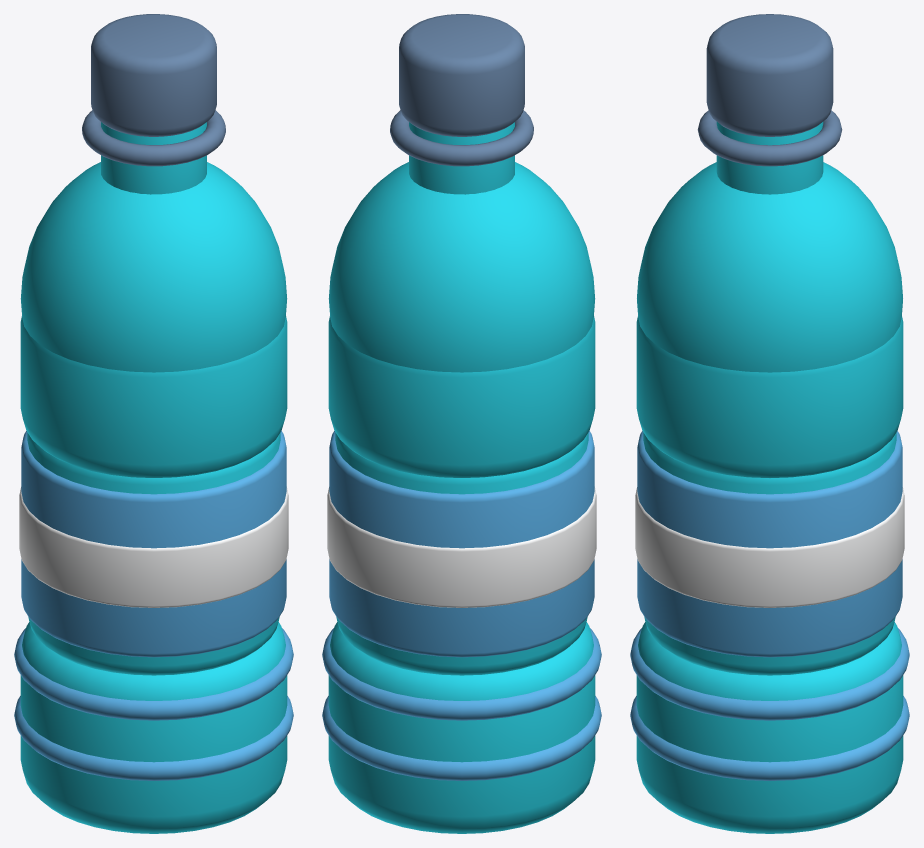
The model's file is SM_WaterBottle.fbx.
The picture shows the model from 3 angles, left to right: view 1: azimuth 30°, elevation 25°; view 2: azimuth 150°, elevation 25°; view 3: azimuth 270°, elevation 25°; orthographic projection.
Visible parts, largest first — view 1: SM_WaterBottle; view 2: SM_WaterBottle; view 3: SM_WaterBottle.
Part boxes in pixels (bbox=[...]): SM_WaterBottle: bbox=[14, 14, 293, 833]; SM_WaterBottle: bbox=[322, 14, 601, 833]; SM_WaterBottle: bbox=[630, 14, 909, 833].
Size of the model in its own units: 11.93 by 35.36 by 11.93.
